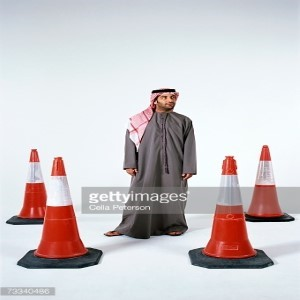traffic cone: (188, 156, 273, 269), (17, 156, 102, 268), (5, 149, 64, 225), (240, 145, 295, 222)
